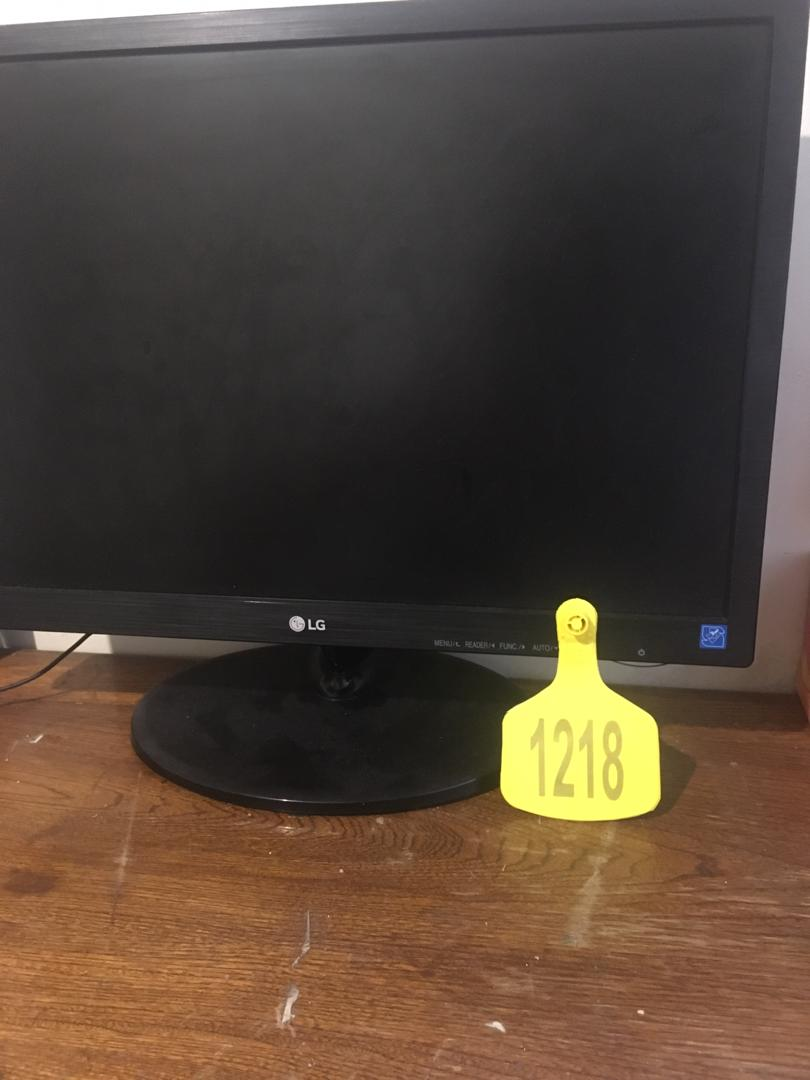digit: (524, 712, 628, 802)
